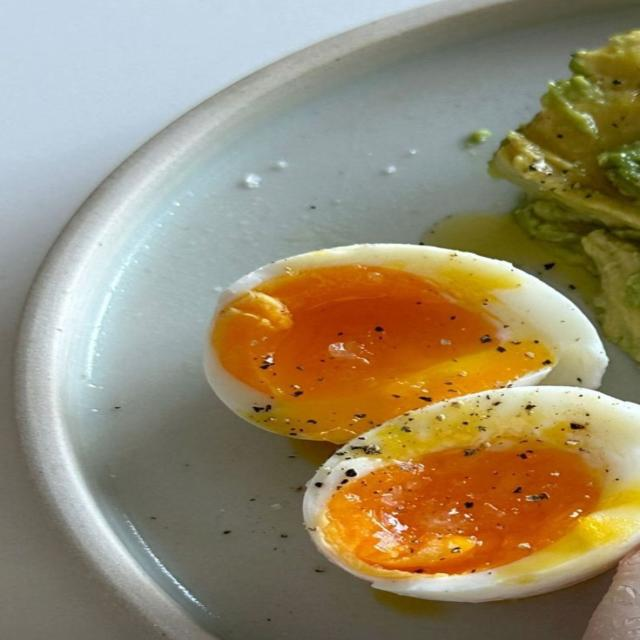avocado: (490, 30, 639, 363)
egg boiled: (205, 244, 606, 443), (304, 387, 639, 601)
